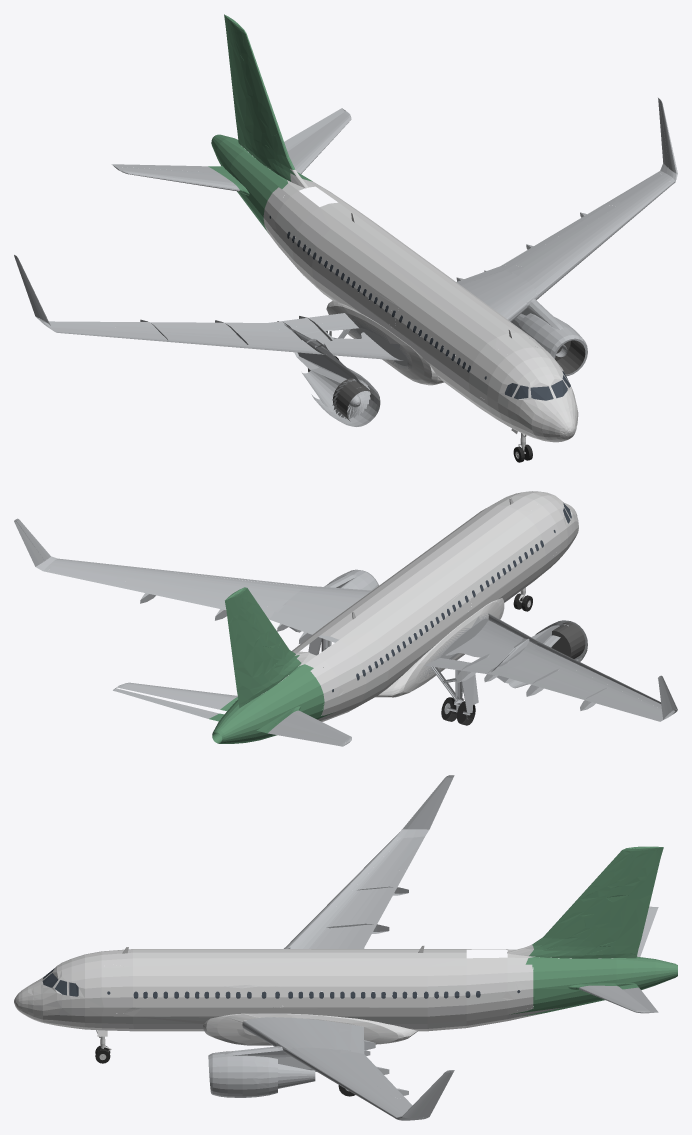
Rendered from maple-air.glb.
3 renders of one model, top to bottom at view 1: azimuth 30°, elevation 25°; view 2: azimuth 150°, elevation 25°; view 3: azimuth 270°, elevation 25°, orthographic. The views are drawn at different scales.
Visible parts, largest first — view 1: maple-air; view 2: maple-air; view 3: maple-air.
Part boxes in pixels (x1,y1,x2,y2): maple-air: (14,14,677,462); maple-air: (14,491,677,746); maple-air: (14,775,677,1120).
Size of the model in its own units: 35.65 by 12.07 by 33.89.
